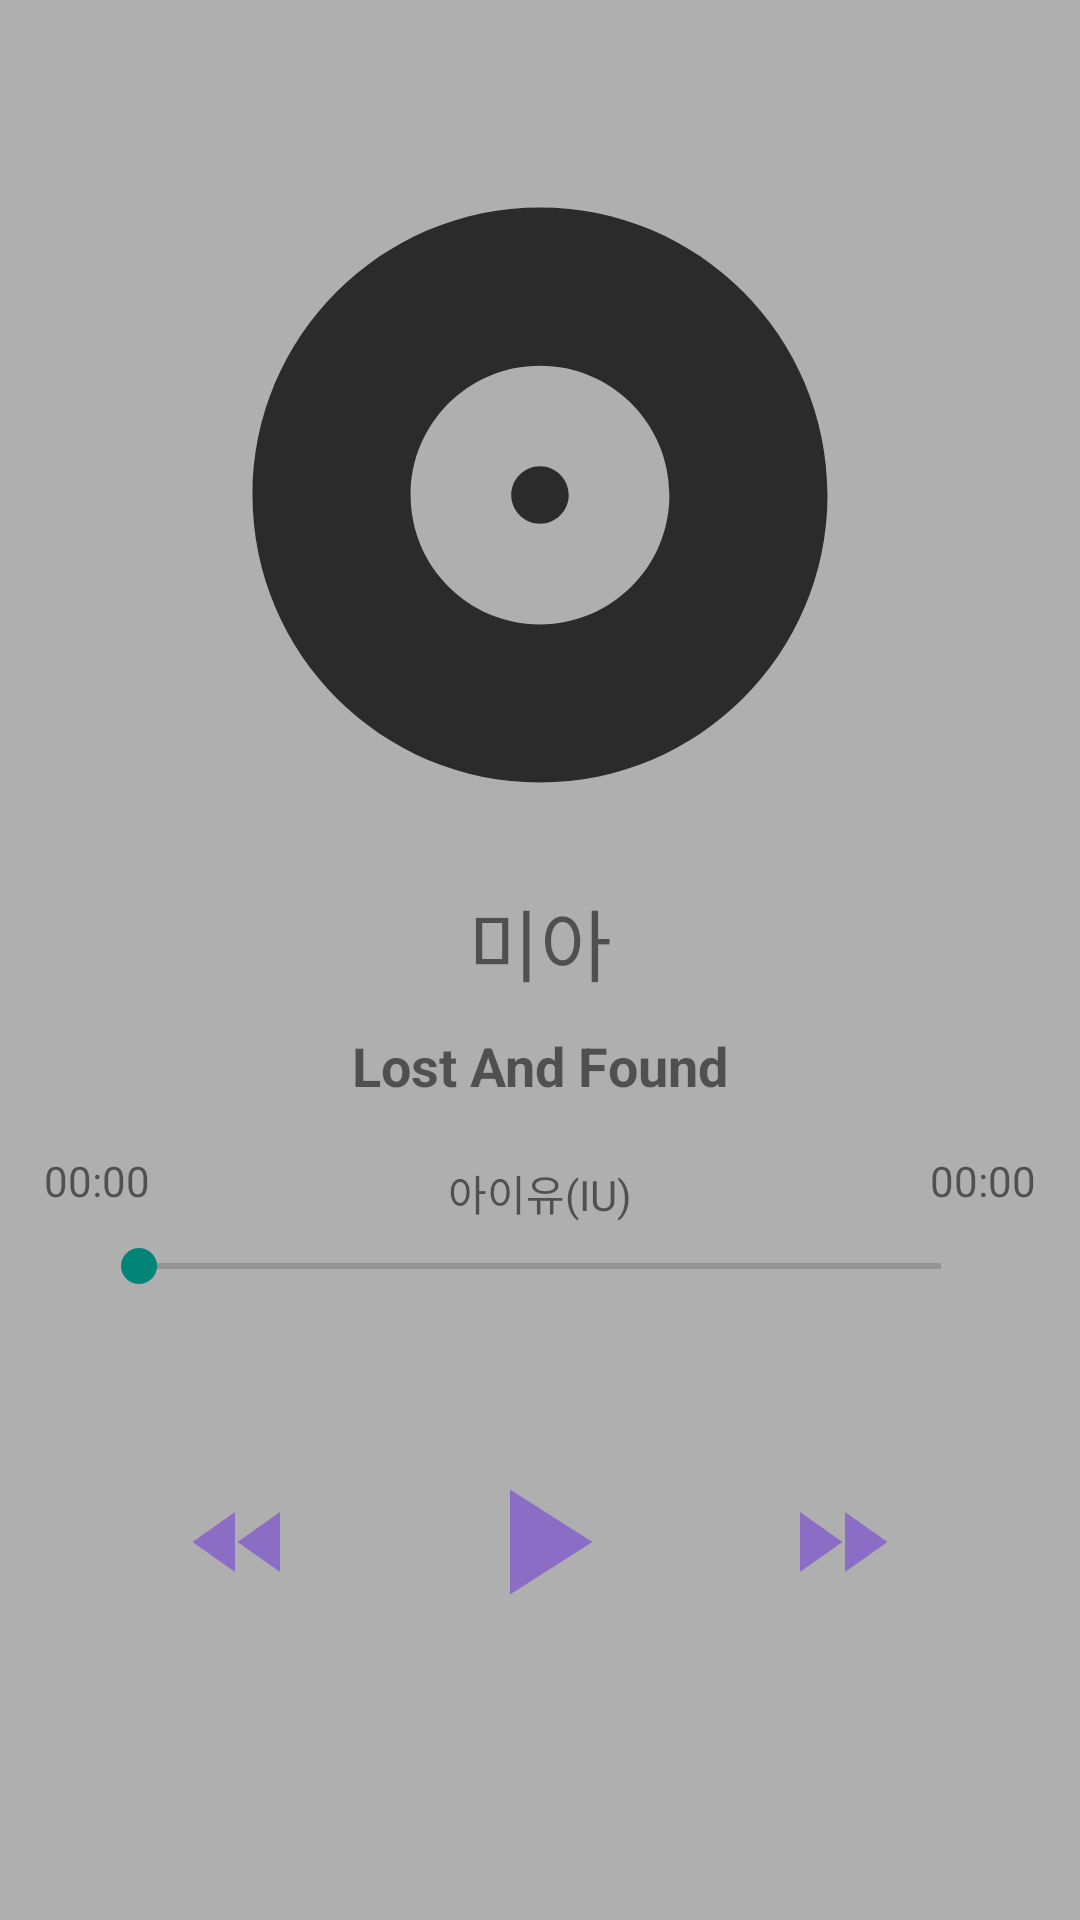

Screen size 1080 x 1920. Icon name, then its box in pixels as (x1, y1, x2, y2):
play arrow: (510, 1490, 592, 1594)
